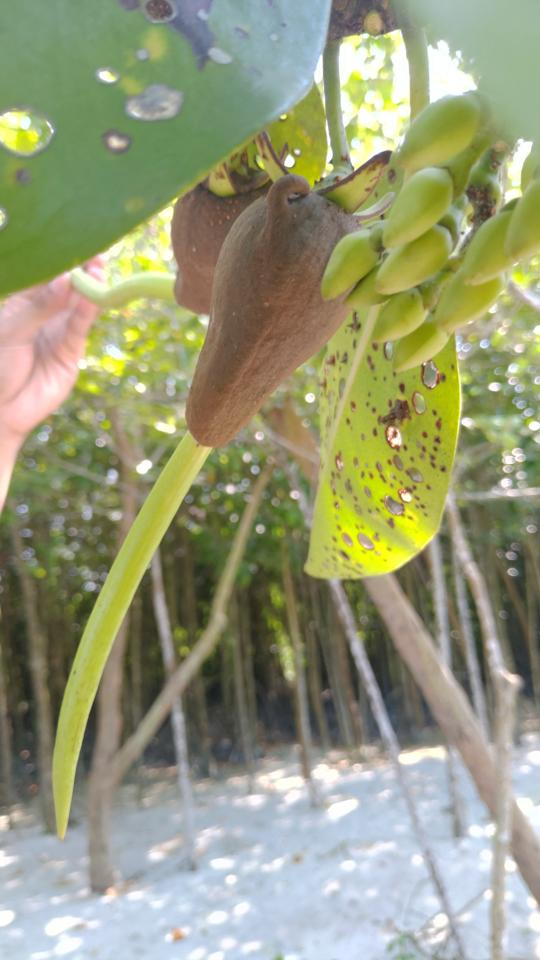mentah: (20, 129, 430, 852)
